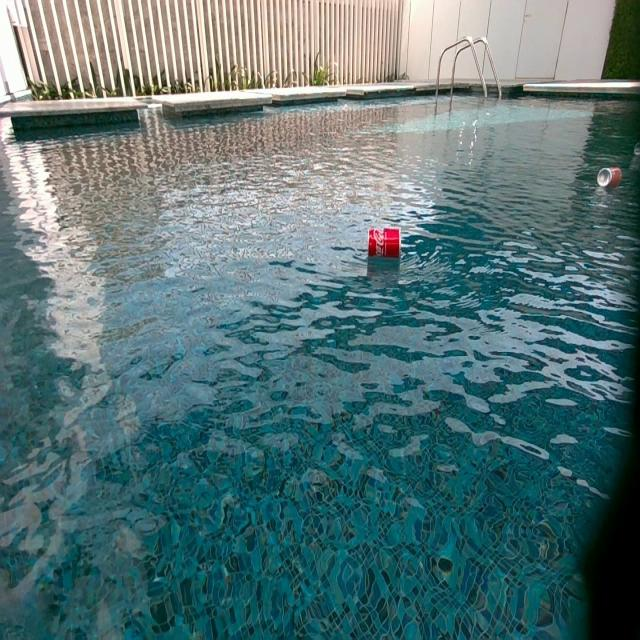Cans: (369, 229, 400, 260), (597, 167, 621, 190), (634, 142, 640, 156)
